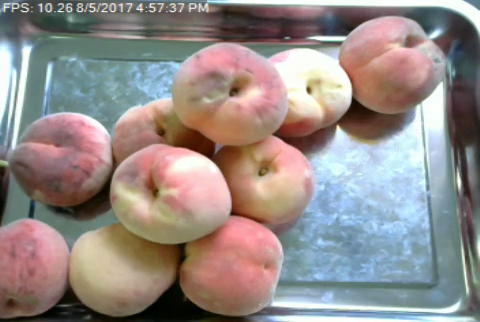Peach: (173, 40, 288, 145), (111, 144, 231, 242), (338, 14, 444, 115), (68, 220, 177, 316), (178, 216, 281, 316), (8, 111, 114, 207), (211, 134, 314, 226), (266, 47, 353, 138), (0, 220, 69, 316)
